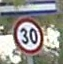limite 30: (12, 15, 44, 55)
